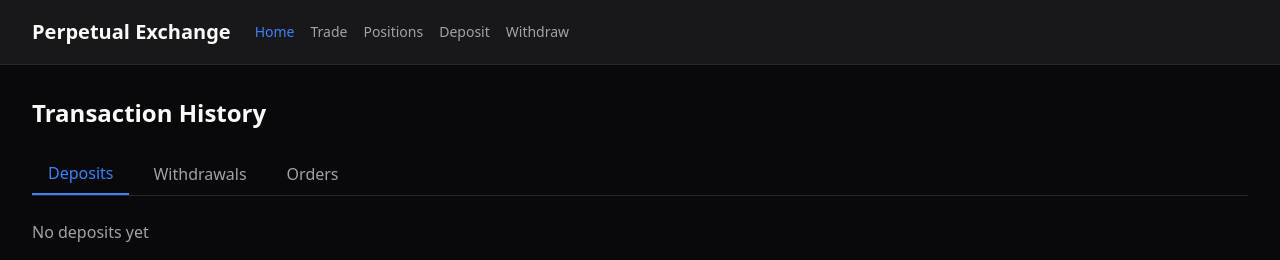
TransactionsPage › should display loading state for withdrawals
This screenshot has width=1280, height=260.
Click the button "Withdrawals" at (200, 174), box [138,153,263,195]
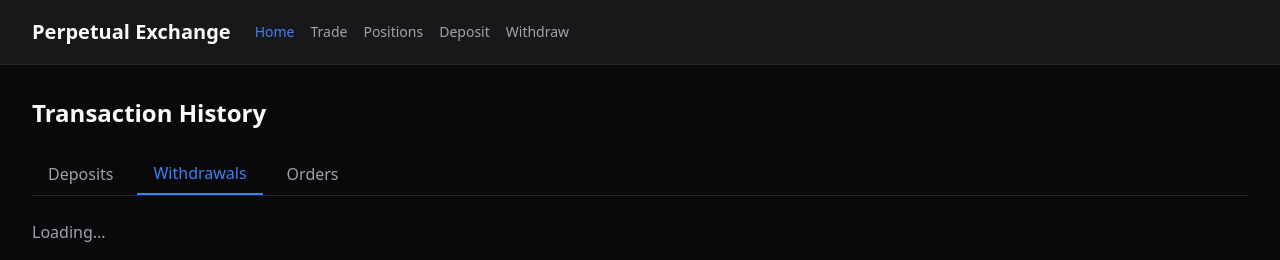
Expected: the text "Loading..." is shown, [32,221,106,243]
